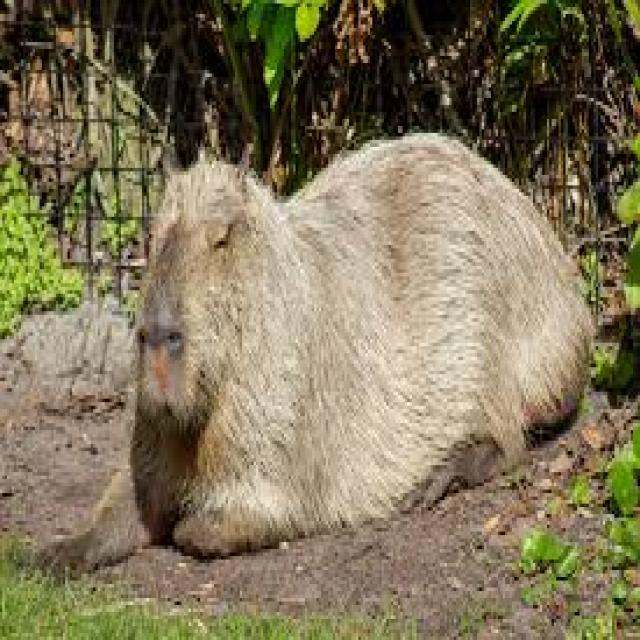capy: (50, 134, 591, 578)
